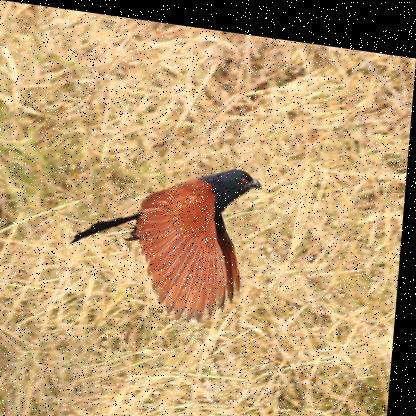Burung: (70, 143, 266, 324)
